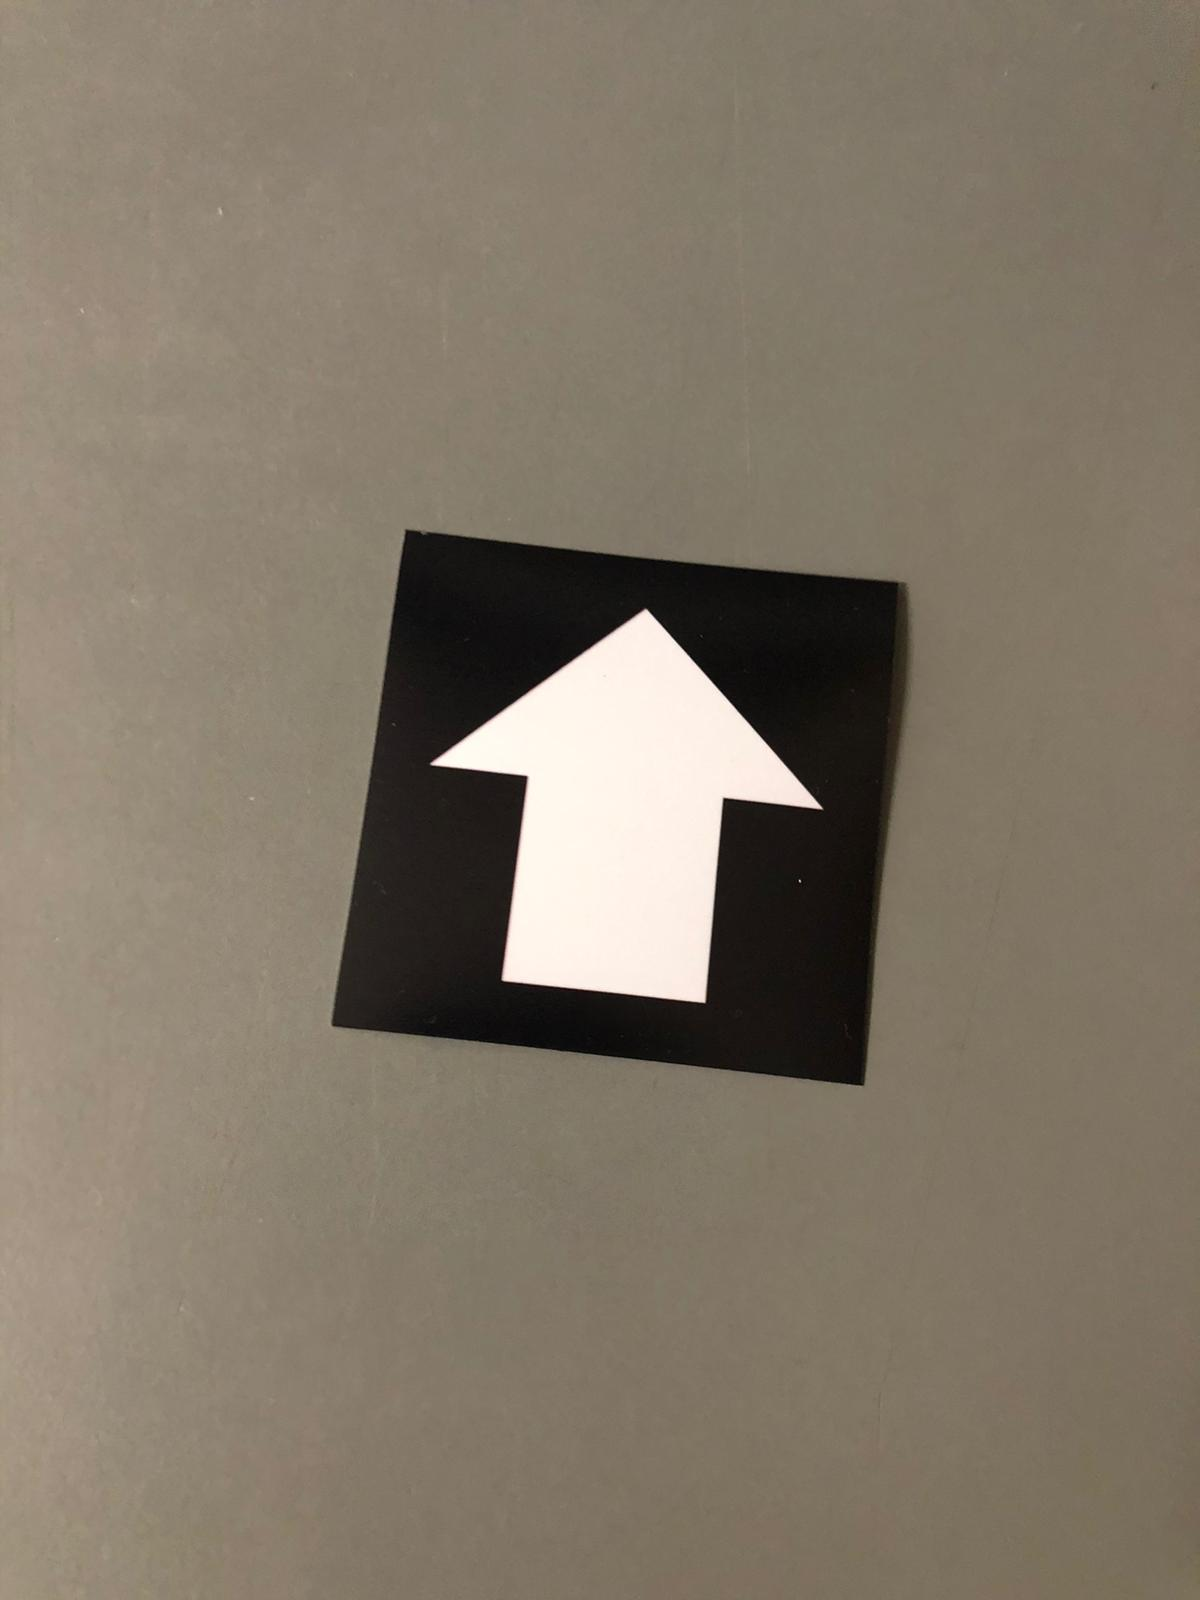Top Arrow: (407, 539, 865, 1053)
